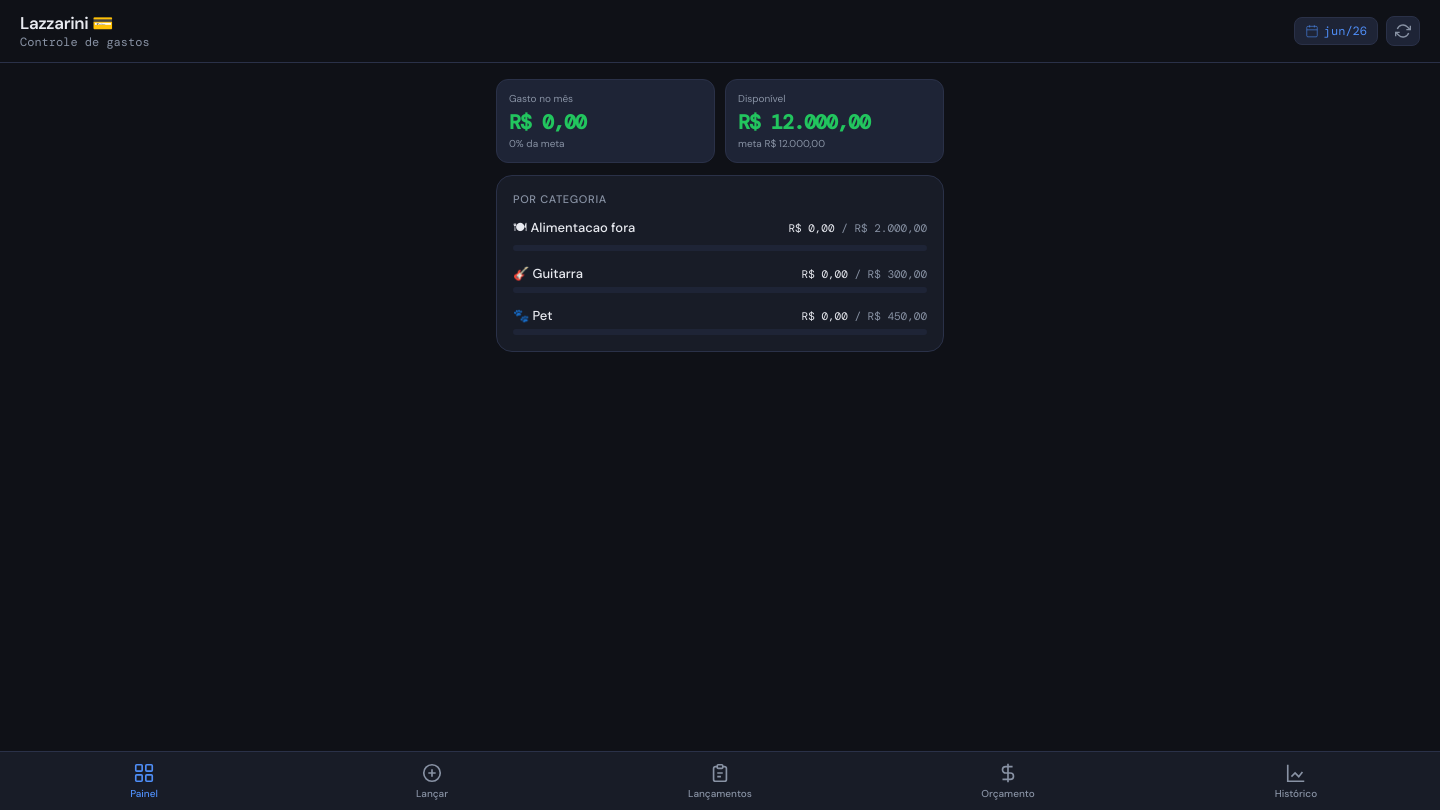
Test: App — navegação, mês e atualização › seletor de mês: lista jun/26 a dez/28, troca o mês e fecha
expect the text "Por categoria" is shown: met, box [513,192,607,206]
Step 1. Click the button with aria-label "Selecionar mês" → [1336, 31], box [1294,17,1378,45]
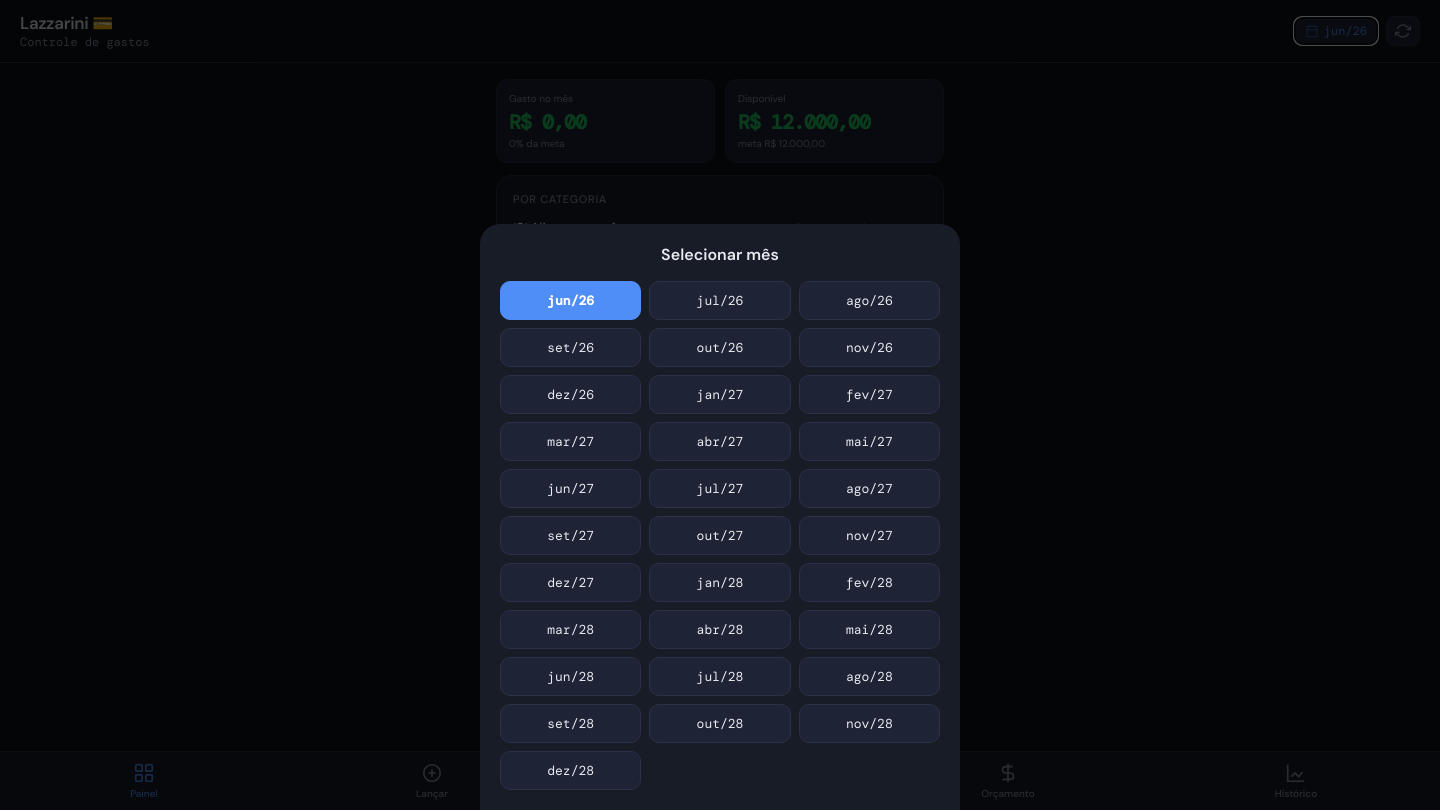
expect the button "dez/28" is shown: met, box [500,751,641,790]
Step 2. Click the button "nov/26" → [869, 348], box [799,328,940,367]
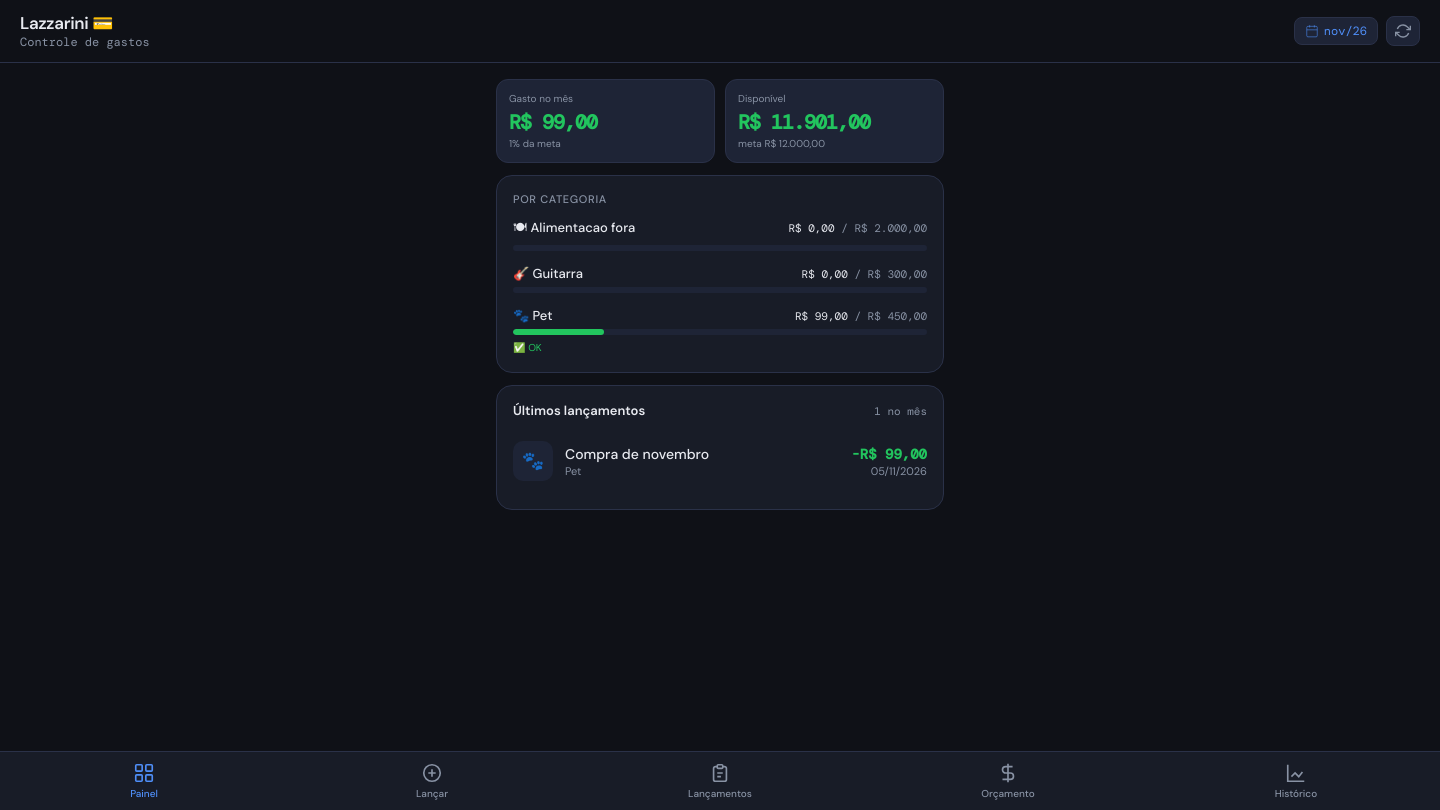
expect the button with aria-label "Selecionar mês" reads "nov/26": met, box [1294,17,1378,45]
expect the text "Compra de novembro" is shown: met, box [565,444,709,462]
